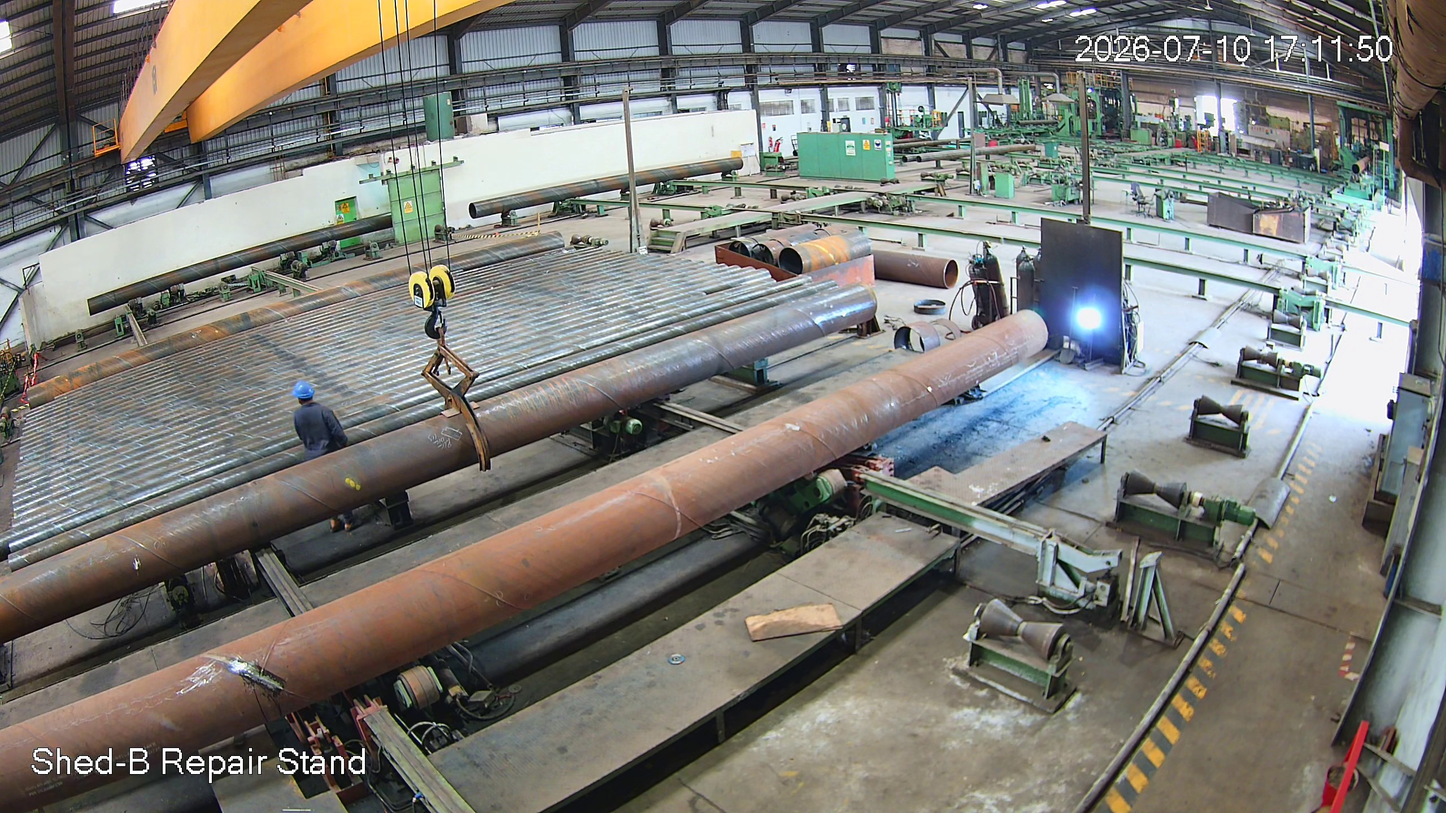Helmet: (284, 370, 332, 433)
Person: (285, 382, 351, 492)
